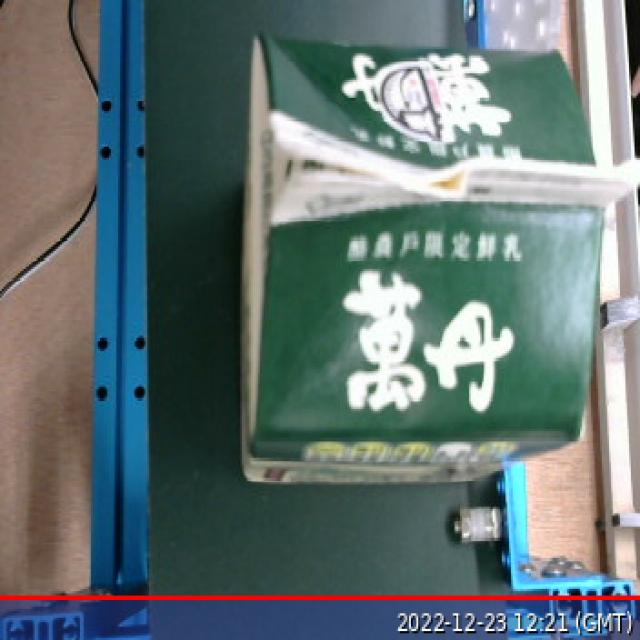non_white_jug: (225, 15, 640, 504)
